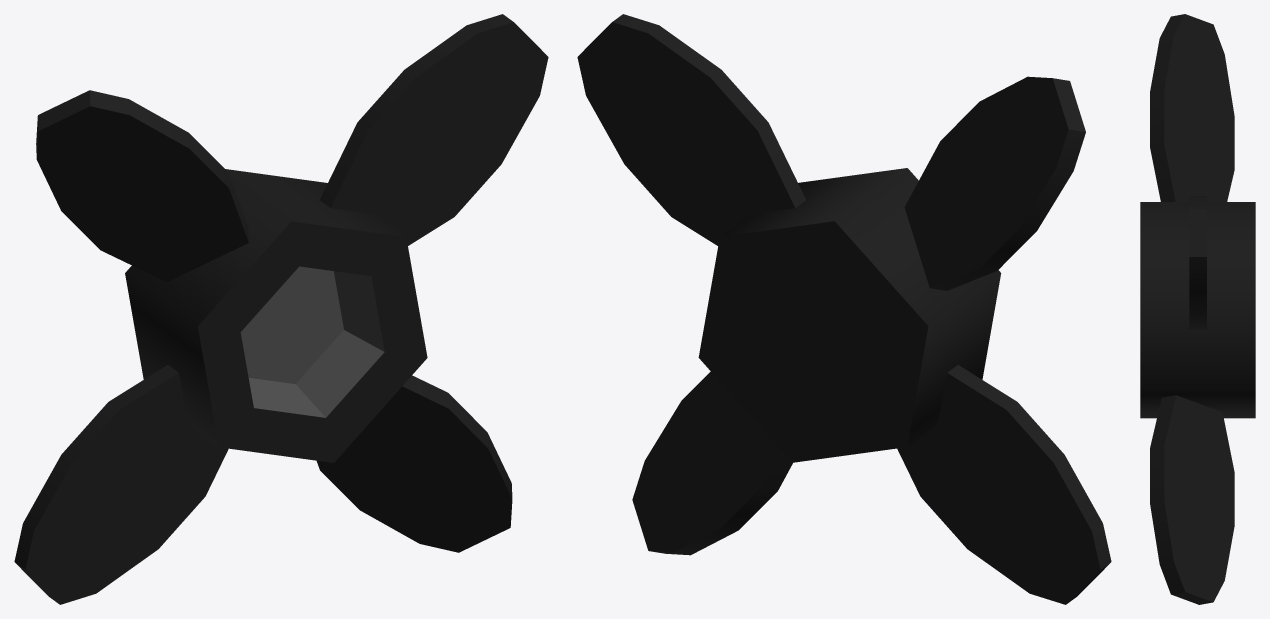
The model's file is fisher_1_equipment_2.FBX.
The picture shows the model from 3 angles, left to right: view 1: azimuth 30°, elevation 25°; view 2: azimuth 150°, elevation 25°; view 3: azimuth 270°, elevation 25°; orthographic projection. The views are drawn at different scales.
Visible parts, largest first — view 1: fisher_1_equipment_2; view 2: fisher_1_equipment_2; view 3: fisher_1_equipment_2.
Boxes of the visible parts, bbox=[...] form: fisher_1_equipment_2: bbox=[14, 14, 548, 604]; fisher_1_equipment_2: bbox=[577, 14, 1111, 604]; fisher_1_equipment_2: bbox=[1140, 14, 1255, 604].
Bounding box in the file's own units: 21.05 × 21.59 × 5.07.
